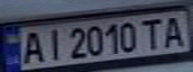0: (118, 19, 142, 52), (84, 23, 106, 57)
1: (103, 20, 124, 54)
2: (63, 24, 87, 60)
A: (18, 28, 48, 65), (160, 14, 190, 48)
I: (42, 26, 66, 62)
T: (136, 16, 166, 51)
